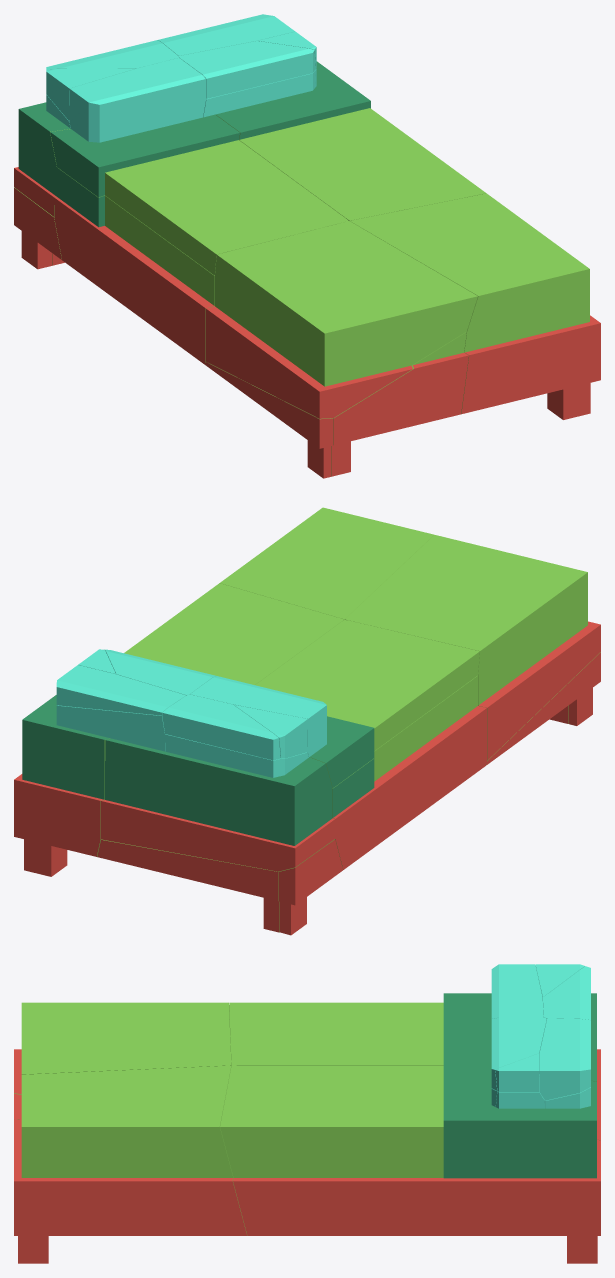
Rendered from BedShatter.fbx.
3 renders of one model, top to bottom at view 1: azimuth 30°, elevation 25°; view 2: azimuth 150°, elevation 25°; view 3: azimuth 270°, elevation 25°, orthographic. The views are drawn at different scales.
Visible parts, largest first — view 1: Cube.000_cell, Cube.000_cell.007, Cube.000_cell.003, Cube.000_cell.008, Cube.000_cell.002, Cube.001_cell.004, Cube.000_cell.004, Cube.001_cell.002, Cube.000_cell.001, Cube.000_cell.005, Cube.001_cell.006, Cube.000_cell.006 (+3 smaller); view 2: Cube.000_cell, Cube.000_cell.008, Cube.000_cell.001, Cube.000_cell.003, Cube.000_cell.002, Cube.000_cell.007, Cube.000_cell.009, Cube.001_cell, Cube.001_cell.006, Cube.001_cell.004, Cube.000_cell.006, Cube.001_cell.001 (+4 smaller); view 3: Cube.000_cell.008, Cube.000_cell.007, Cube.000_cell.003, Cube.000_cell, Cube.001_cell.006, Cube.001_cell.004, Cube.001_cell.002, Cube.001_cell, Cube.001_cell.005, Cube.001_cell.007, Cube.000_cell.001, Cube.001_cell.008 (+1 smaller).
Part boxes in pixels (<box>): Cube.000_cell: <box>206,221,477,418</box>; Cube.000_cell.007: <box>350,193,600,419</box>; Cube.000_cell.003: <box>50,114,348,275</box>; Cube.000_cell.008: <box>215,61,485,220</box>; Cube.000_cell.002: <box>54,167,214,364</box>; Cube.001_cell.004: <box>69,58,205,142</box>; Cube.000_cell.004: <box>331,331,468,476</box>; Cube.001_cell.002: <box>179,41,315,98</box>; Cube.000_cell.001: <box>14,102,70,216</box>; Cube.000_cell.005: <box>205,362,333,478</box>; Cube.001_cell.006: <box>158,14,294,56</box>; Cube.000_cell.006: <box>14,187,61,269</box>; Cube.000_cell: <box>345,535,600,760</box>; Cube.000_cell.008: <box>14,583,344,876</box>; Cube.000_cell.001: <box>101,738,335,871</box>; Cube.000_cell.003: <box>255,620,479,787</box>; Cube.000_cell.002: <box>332,675,486,869</box>; Cube.000_cell.007: <box>220,507,433,619</box>; Cube.000_cell.009: <box>97,839,279,932</box>; Cube.001_cell: <box>162,694,280,760</box>; Cube.001_cell.006: <box>56,665,185,715</box>; Cube.001_cell.004: <box>190,676,326,757</box>; Cube.000_cell.006: <box>278,839,342,935</box>; Cube.001_cell.001: <box>56,705,165,751</box>; Cube.000_cell.008: <box>220,1059,600,1263</box>; Cube.000_cell.007: <box>14,1065,247,1263</box>; Cube.000_cell.003: <box>229,993,491,1065</box>; Cube.000_cell: <box>14,1002,231,1094</box>; Cube.001_cell.006: <box>539,1018,590,1100</box>; Cube.001_cell.004: <box>491,964,543,1018</box>; Cube.001_cell.002: <box>491,1017,546,1090</box>; Cube.001_cell: <box>543,966,590,1019</box>; Cube.001_cell.005: <box>495,1053,539,1091</box>; Cube.001_cell.007: <box>535,964,584,1000</box>; Cube.000_cell.001: <box>591,993,600,1140</box>; Cube.001_cell.008: <box>496,1076,544,1108</box>.
Size of the model in its own units: 174 by 112 by 327.
